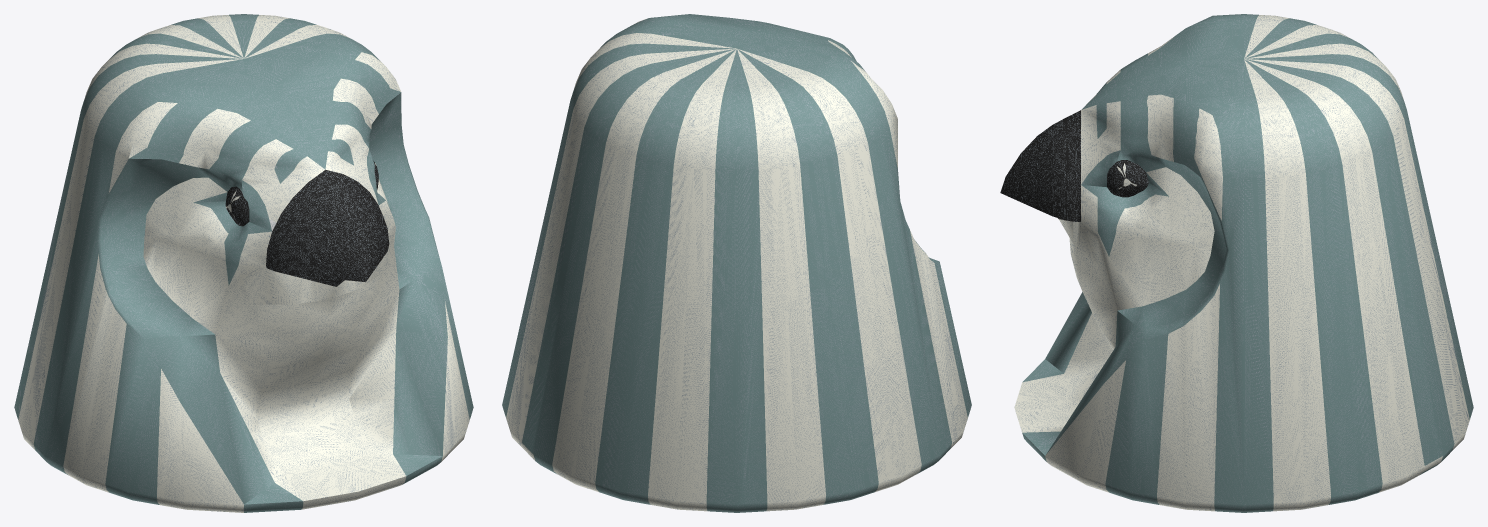
Rendered from hawk head.dae.
3 views of the same model, side by side, from view 1: azimuth 30°, elevation 25°; view 2: azimuth 150°, elevation 25°; view 3: azimuth 270°, elevation 25° (orthographic). The views are drawn at different scales.
Parts seen in each view (by area): view 1: group_0 (×15); view 2: group_0 (×8); view 3: group_0 (×12).
Boxes of the visible parts, x1=… form: group_0 (×15): x1=14, y1=14, x2=473, y2=512; group_0 (×8): x1=502, y1=14, x2=971, y2=512; group_0 (×12): x1=1000, y1=14, x2=1473, y2=512.
Size of the model in its own units: 47.24 by 48.68 by 41.06.
